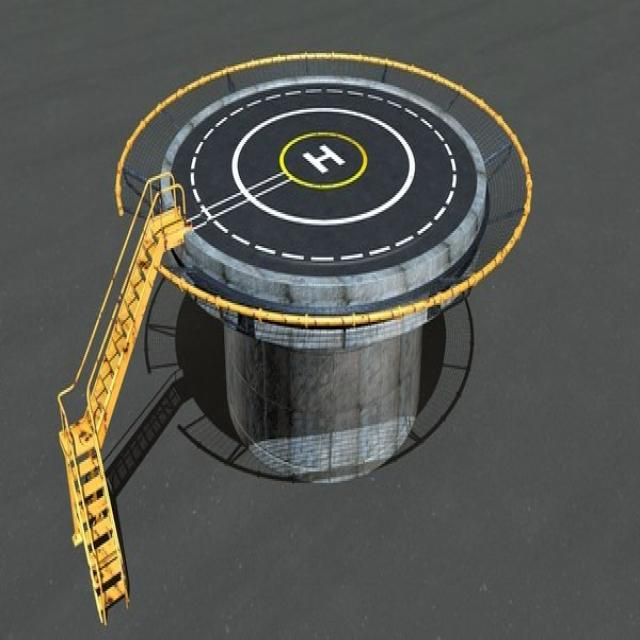helipad: (276, 123, 368, 193)
